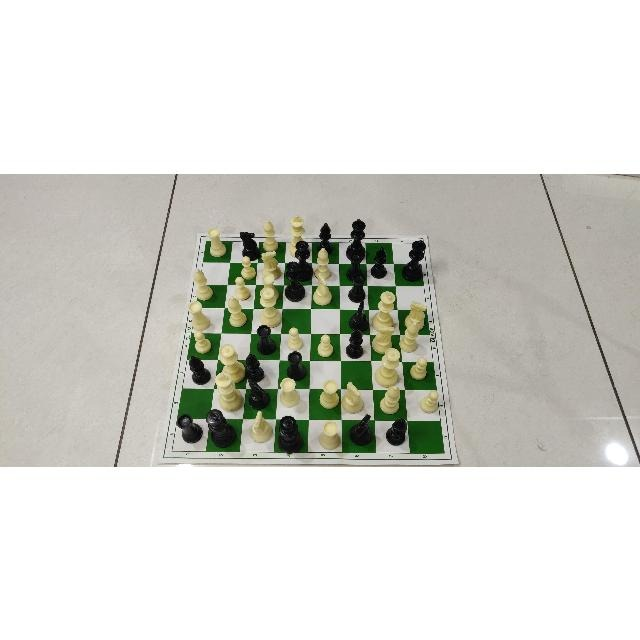black-bishop: (187, 355, 211, 386), (384, 416, 408, 446), (243, 353, 266, 383), (316, 222, 334, 258), (369, 246, 388, 280), (345, 328, 365, 360)
black-king: (204, 409, 235, 448), (346, 216, 366, 261)
black-knight: (350, 412, 373, 446), (244, 380, 270, 410), (238, 230, 260, 258), (349, 299, 368, 329)
black-queen: (276, 415, 304, 453), (289, 241, 312, 285), (282, 259, 305, 301)
black-rook: (176, 413, 202, 444), (254, 324, 277, 358), (286, 350, 308, 382)
white-bishop: (225, 293, 248, 327), (313, 245, 335, 280), (259, 214, 279, 251), (192, 268, 214, 301), (401, 318, 422, 350), (378, 385, 402, 413)
white-king: (216, 371, 244, 415), (374, 289, 396, 333), (289, 214, 309, 258)
white-knight: (248, 410, 273, 442), (259, 248, 283, 281), (405, 299, 428, 332), (311, 272, 334, 304), (342, 379, 364, 412), (372, 325, 394, 353)
white-pawn: (190, 329, 211, 354), (409, 357, 430, 381), (420, 388, 440, 413), (233, 274, 251, 300), (238, 256, 257, 280), (286, 324, 304, 349), (316, 333, 334, 357)
white-queen: (374, 346, 399, 387), (218, 343, 244, 382)
white-rook: (277, 375, 300, 409), (318, 380, 340, 411), (319, 421, 341, 451), (189, 300, 210, 330), (206, 229, 228, 257), (259, 274, 280, 303)
